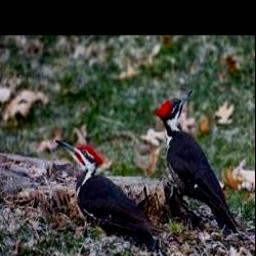Woodpecker: (155, 91, 245, 238), (56, 139, 165, 241)
